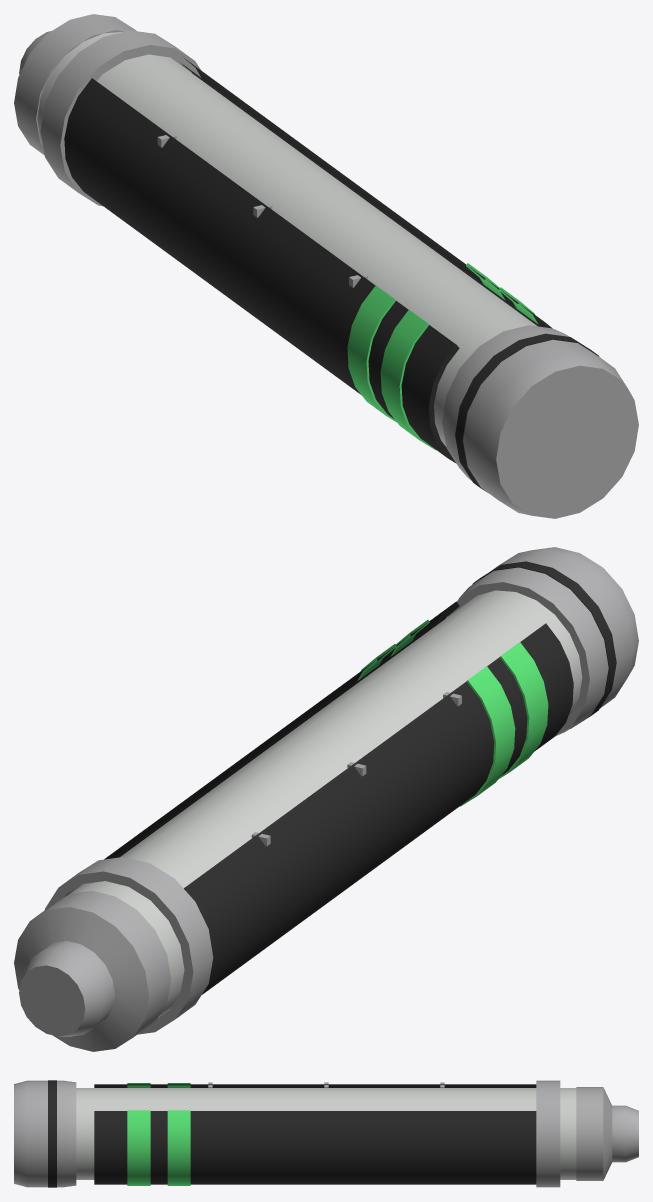
The model's file is regen_r2.glb.
3 views of the same model, one above another, from view 1: azimuth 30°, elevation 25°; view 2: azimuth 150°, elevation 25°; view 3: azimuth 270°, elevation 25° (orthographic). The views are drawn at different scales.
Visible parts, largest first — view 1: body; view 2: body; view 3: body.
Part boxes in pixels (x1,y1,x2,y2): body: (14, 14, 638, 518); body: (14, 547, 638, 1051); body: (14, 1080, 638, 1187).
Size of the model in its own units: 0.0121 by 0.0119 by 0.07.
